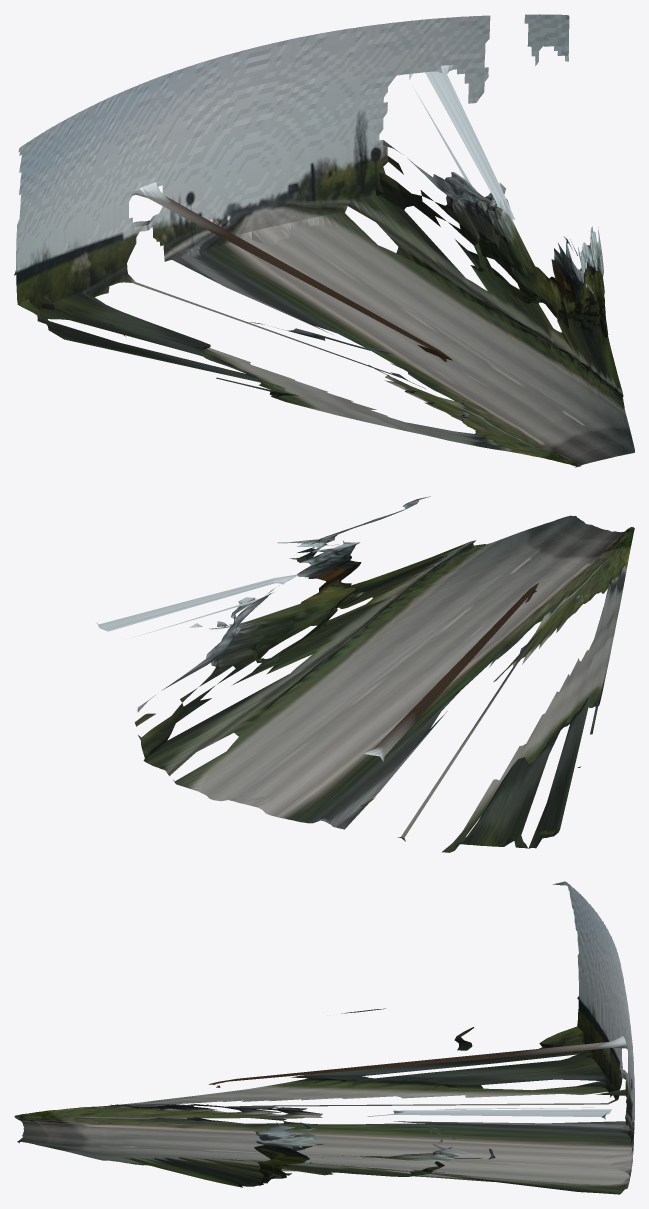
3 views of the same model, one above another, from view 1: azimuth 30°, elevation 25°; view 2: azimuth 150°, elevation 25°; view 3: azimuth 270°, elevation 25° (orthographic). The views are drawn at different scales.
Visible parts, largest first — view 1: defaultobject; view 2: defaultobject; view 3: defaultobject.
Boxes of the visible parts, x1,y1,x2,y2 form: defaultobject: (14, 14, 634, 467); defaultobject: (96, 496, 634, 852); defaultobject: (14, 881, 634, 1194).
Size of the model in its own units: 40.64 by 14.35 by 45.02.
1 material, 1 textured.
